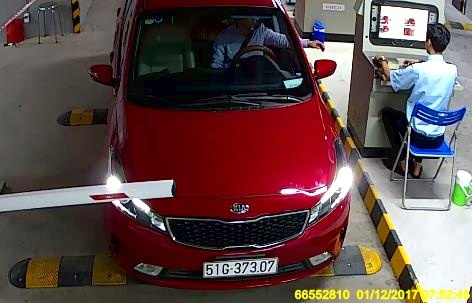plate: (199, 256, 281, 277)
